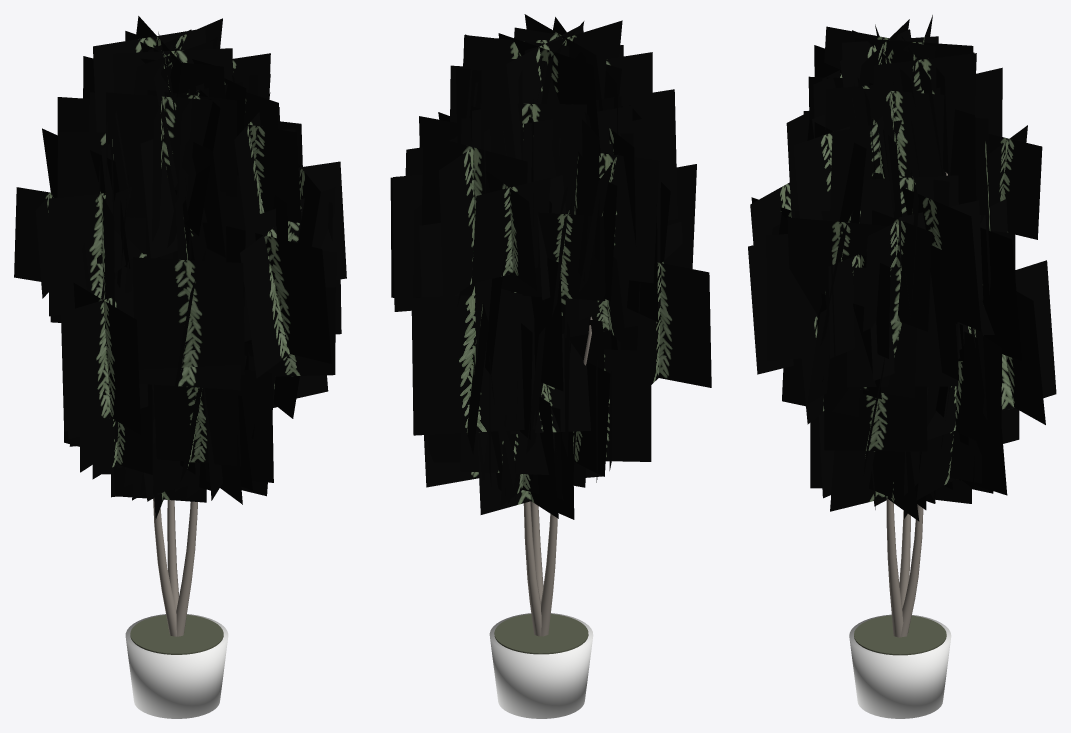
File: olive-tree-BQFH51m7.glb
3 views of the same model, side by side, from view 1: azimuth 30°, elevation 25°; view 2: azimuth 150°, elevation 25°; view 3: azimuth 270°, elevation 25° (orthographic).
Parts seen in each view (by area): view 1: Foliage, Pot, Soil, Trunk0, Trunk1, Trunk2; view 2: Foliage, Pot, Soil, Trunk2, Trunk1, Trunk0; view 3: Foliage, Pot, Soil, Trunk0, Trunk2, Trunk1.
Boxes of the visible parts, x1,y1,x2,y2 form: Foliage: (14, 16, 346, 519); Pot: (125, 614, 228, 718); Soil: (130, 614, 223, 654); Trunk0: (176, 501, 197, 636); Trunk1: (153, 498, 176, 636); Trunk2: (167, 500, 178, 609); Foliage: (390, 14, 711, 519); Pot: (489, 613, 593, 718); Soil: (494, 614, 588, 654); Trunk2: (523, 501, 541, 636); Trunk1: (541, 514, 557, 636); Trunk0: (530, 501, 543, 602); Foliage: (748, 15, 1056, 521); Pot: (849, 614, 951, 718); Soil: (854, 615, 946, 655); Trunk0: (886, 498, 903, 637); Trunk2: (900, 504, 923, 637); Trunk1: (899, 511, 910, 607).
Size of the model in its own units: 1.2 by 2.61 by 1.14.
Materials: 4 (1 with a texture image).
